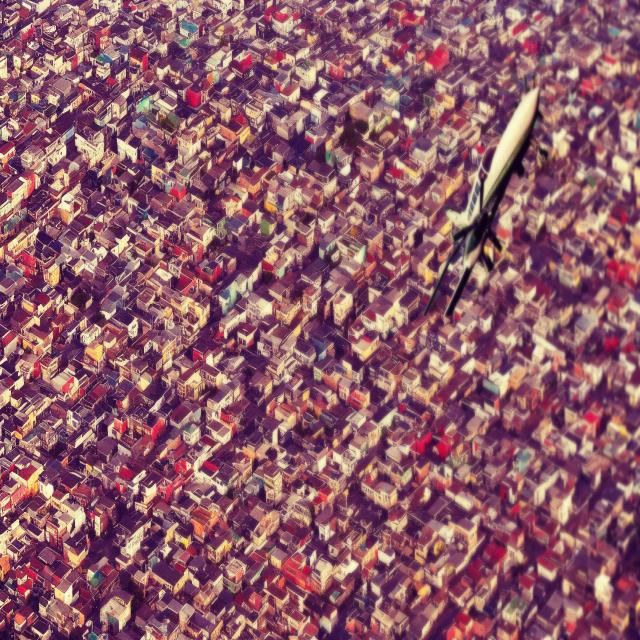airplane: (421, 71, 541, 318)
